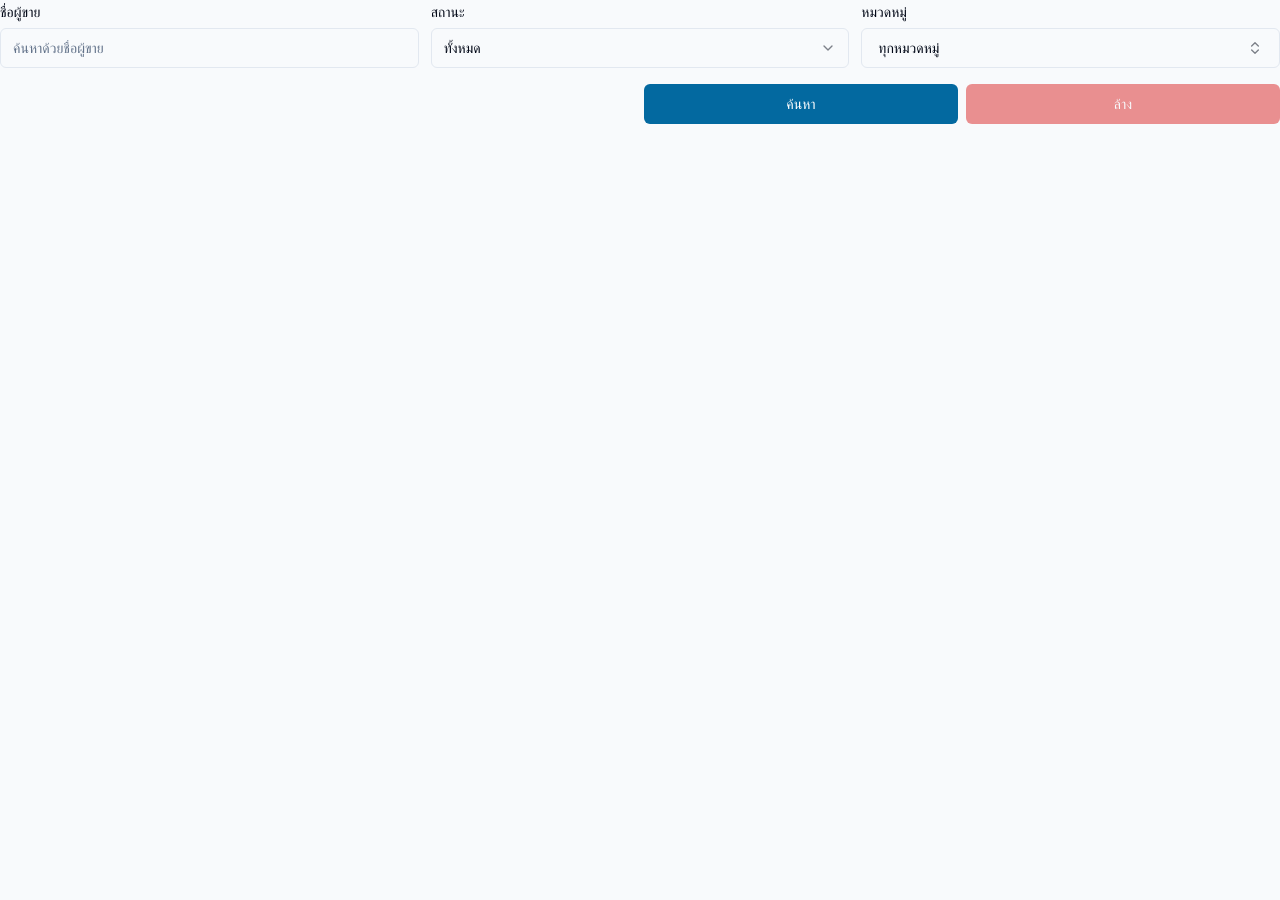
Scenario: VendorListFilterForm › changing only the category (Combobox) flips isDirty → enables ล้าง
Check: the button "ล้าง" is disabled, box [966, 84, 1279, 124]
Step 1. Click the dropdown labelled "หมวดหมู่" → click(909, 48), box [861, 28, 1279, 68]
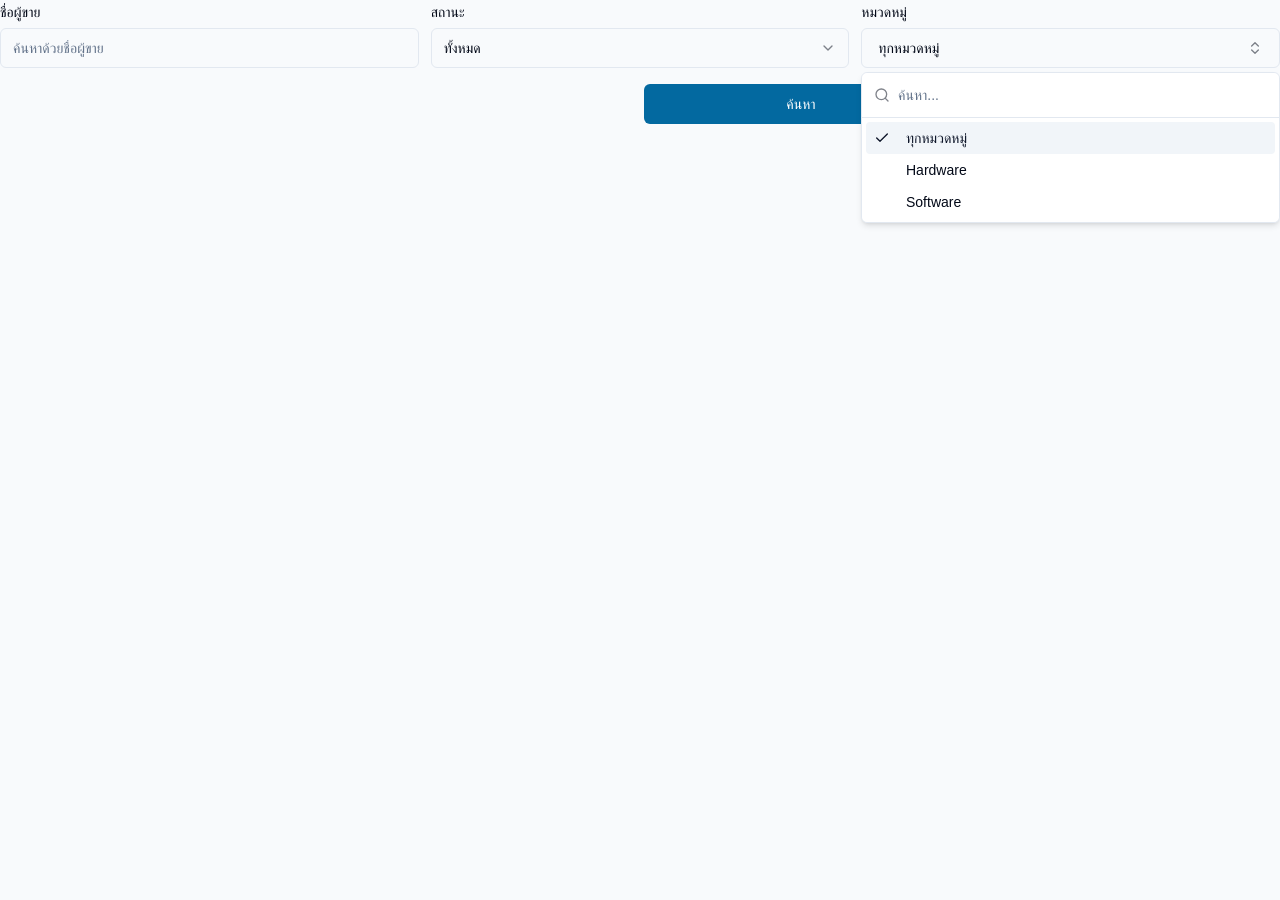
Step 2. Click the option "Hardware" → click(936, 170), box [906, 162, 967, 178]
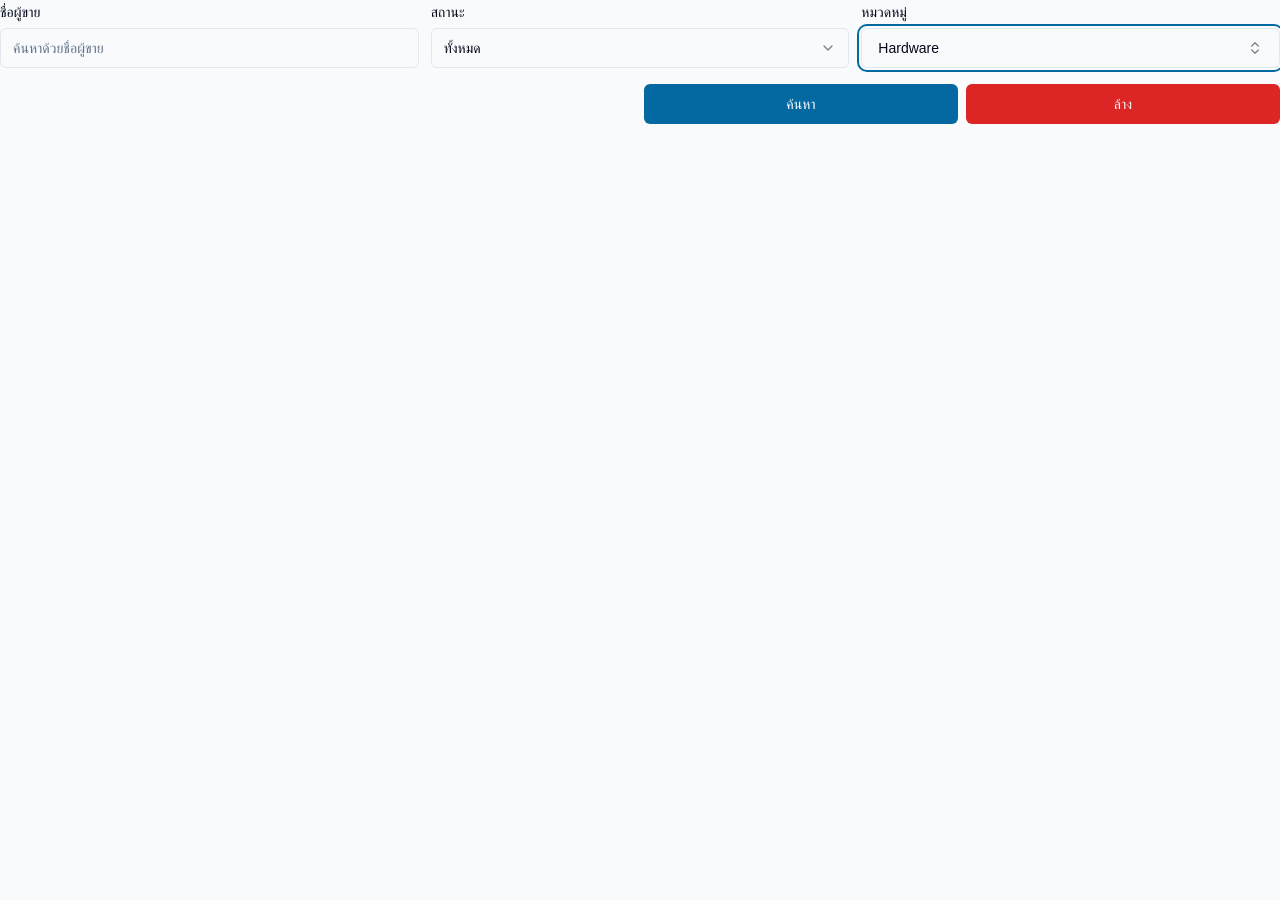
Check: the dropdown named "หมวดหมู่" reads "Hardware", box [861, 28, 1279, 68]
Check: the button "ล้าง" is enabled, box [966, 84, 1279, 124]
